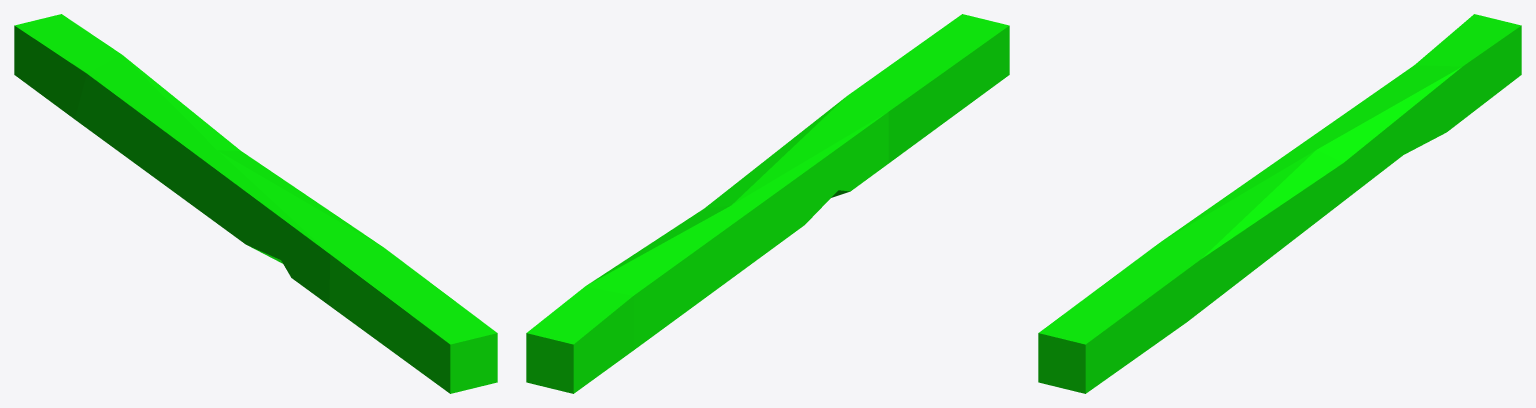
The model's file is SM_Wall_Beam_Horizontal_Mid_Out_A_4m.fbx.
The picture shows the model from 3 angles, left to right: view 1: azimuth 30°, elevation 25°; view 2: azimuth 150°, elevation 25°; view 3: azimuth 330°, elevation 25°; orthographic projection.
Parts seen in each view (by area): view 1: wall-beam-horizontal-mid-out-a-4m; view 2: wall-beam-horizontal-mid-out-a-4m; view 3: wall-beam-horizontal-mid-out-a-4m.
Boxes of the visible parts, x1=… form: wall-beam-horizontal-mid-out-a-4m: x1=14, y1=14, x2=497, y2=393; wall-beam-horizontal-mid-out-a-4m: x1=526, y1=14, x2=1009, y2=393; wall-beam-horizontal-mid-out-a-4m: x1=1038, y1=14, x2=1521, y2=393.
Size of the model in its own units: 0.2545 by 0.2747 by 4.
